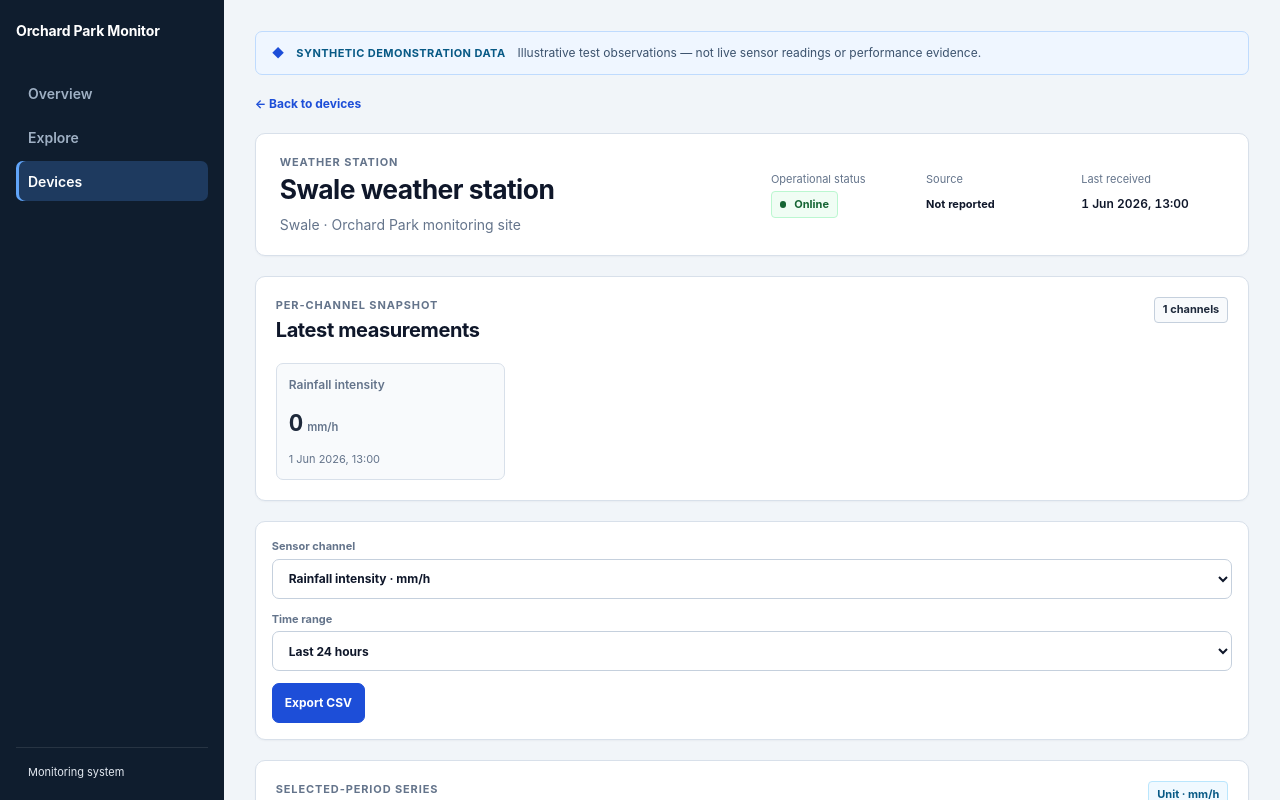
Device Detail history controls and CSV export › shows a clear export failure without leaving Device Detail
The width and height of the screenshot is (1280, 800).
Click the button "Export CSV".
click(318, 703)  # box [272, 683, 365, 723]
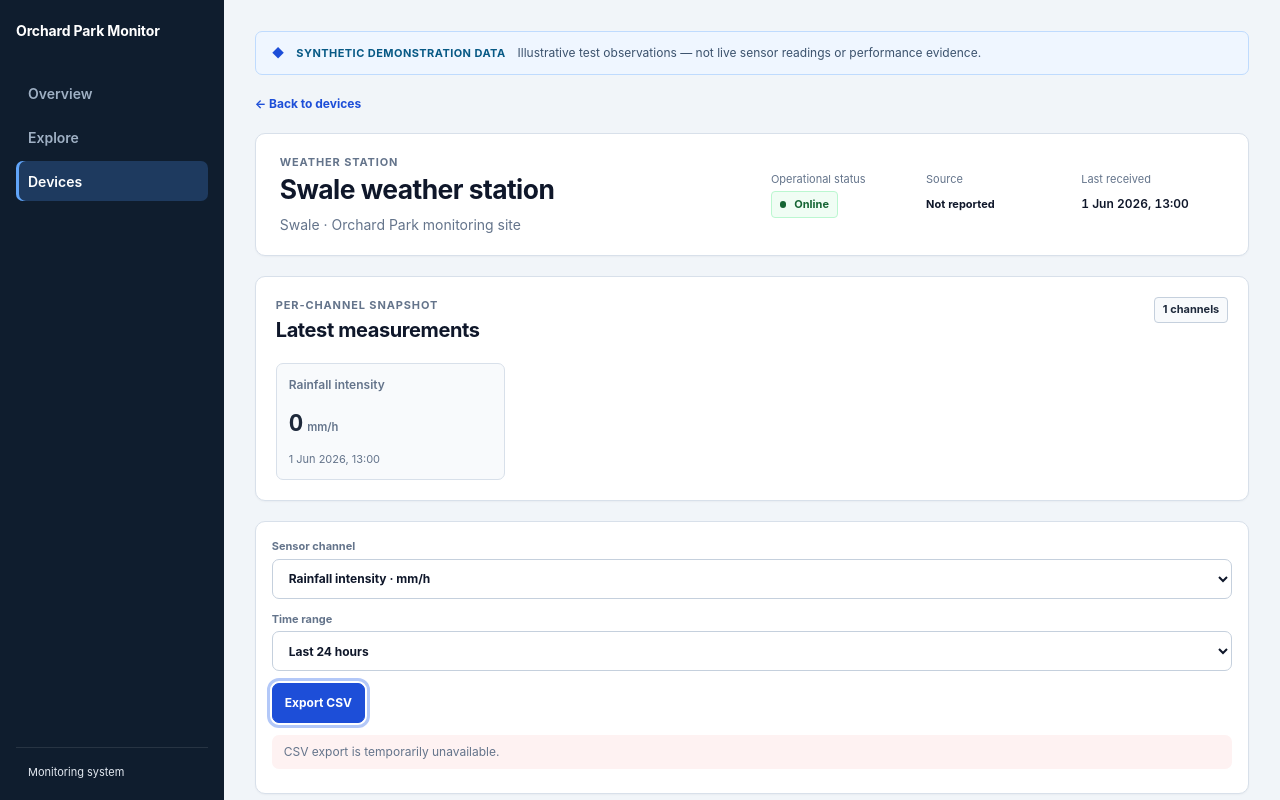
Check: the heading "Swale weather station" is shown, box [280, 174, 554, 206]
Check: the message reads "CSV export is temporarily unavailable.", box [284, 744, 499, 759]
